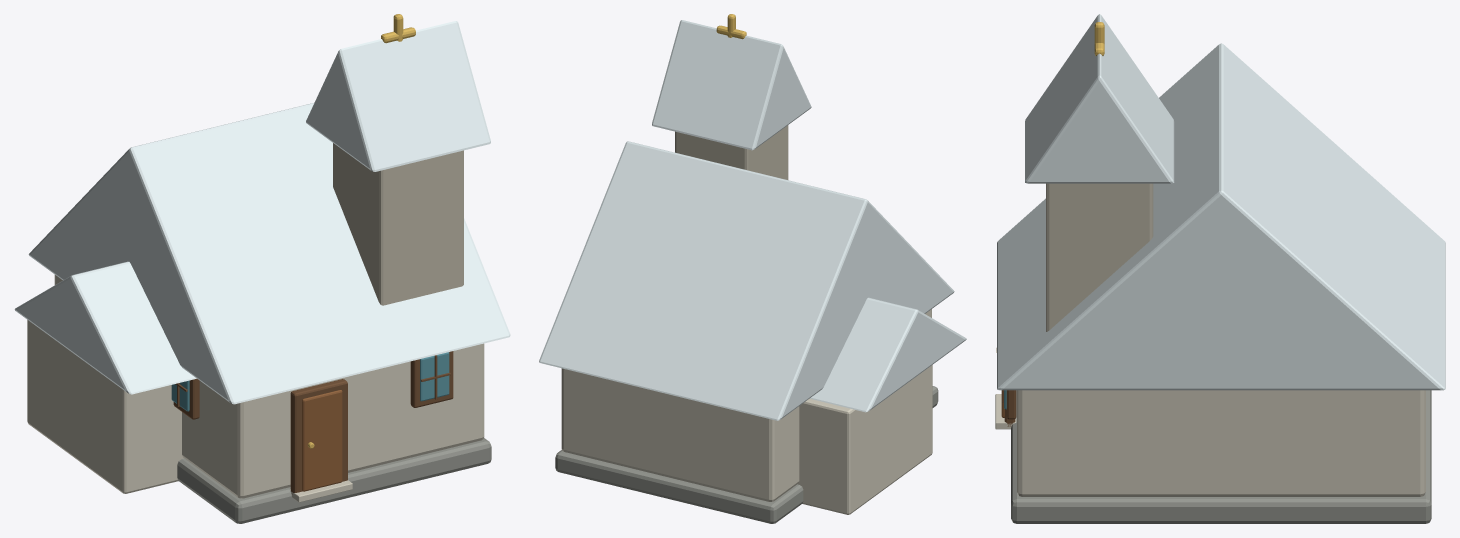
File: snowy-chapel-1.glb
3 renders of one model, left to right at view 1: azimuth 30°, elevation 25°; view 2: azimuth 150°, elevation 25°; view 3: azimuth 270°, elevation 25°, orthographic. The views are drawn at different scales.
Parts seen in each view (by area): view 1: Snow, Cut limestone, Warm civic stone, Foundation stone, Dark beams, Door oak, Blue glass, Warm brass; view 2: Snow, Cut limestone, Foundation stone, Warm civic stone; view 3: Snow, Cut limestone, Foundation stone, Warm civic stone.
Part boxes in pixels (<box>): Snow: <box>14,21,510,404</box>; Cut limestone: <box>27,275,484,502</box>; Warm civic stone: <box>333,143,463,305</box>; Foundation stone: <box>177,438,491,523</box>; Dark beams: <box>173,351,453,494</box>; Door oak: <box>302,390,342,491</box>; Blue glass: <box>171,352,449,411</box>; Warm brass: <box>307,14,415,448</box>; Snow: <box>539,20,966,420</box>; Cut limestone: <box>561,309,932,514</box>; Foundation stone: <box>555,386,938,523</box>; Warm civic stone: <box>675,125,788,179</box>; Snow: <box>997,14,1445,390</box>; Cut limestone: <box>995,390,1425,496</box>; Foundation stone: <box>1011,390,1431,523</box>; Warm civic stone: <box>1046,183,1153,331</box>.
Size of the model in its own units: 4.4 by 5.38 by 4.62.
